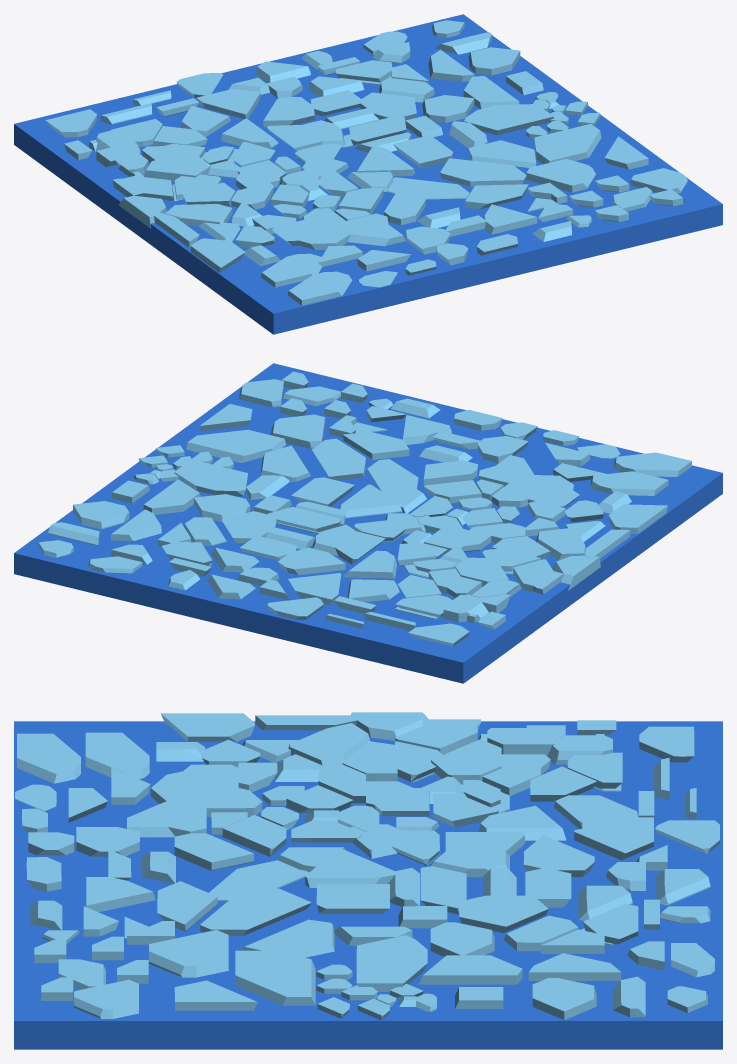
File: Ice_terrain1.fbx
The picture shows the model from 3 angles, top to bottom: view 1: azimuth 30°, elevation 25°; view 2: azimuth 150°, elevation 25°; view 3: azimuth 270°, elevation 25°; orthographic projection. The views are drawn at different scales.
Visible parts, largest first — view 1: Ice, water; view 2: Ice, water; view 3: Ice, water.
Boxes of the visible parts, left/top/right/bottom form: Ice: left=45, top=20, right=687, bottom=305; water: left=14, top=14, right=722, bottom=334; Ice: left=38, top=371, right=691, bottom=646; water: left=14, top=363, right=722, bottom=683; Ice: left=15, top=712, right=719, bottom=1020; water: left=14, top=721, right=722, bottom=1049.
Size of the model in its own units: 407 by 26.16 by 406.
